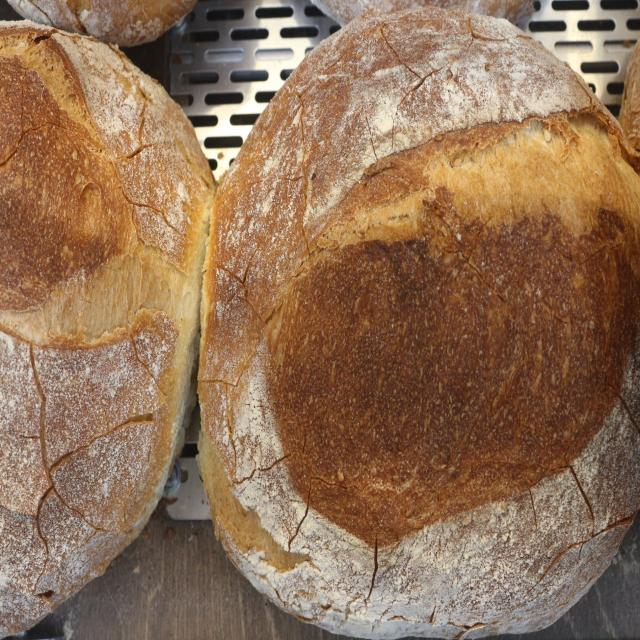Maltese-Bread: (198, 9, 640, 636), (0, 21, 215, 633)
